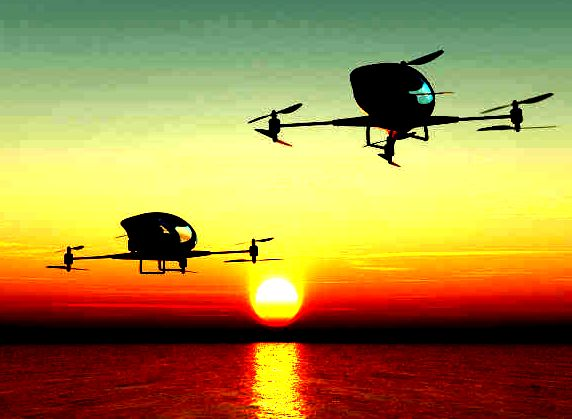Drone: (241, 43, 562, 170), (39, 207, 289, 285)
